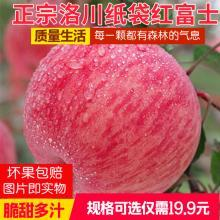apple: (23, 43, 203, 196)
